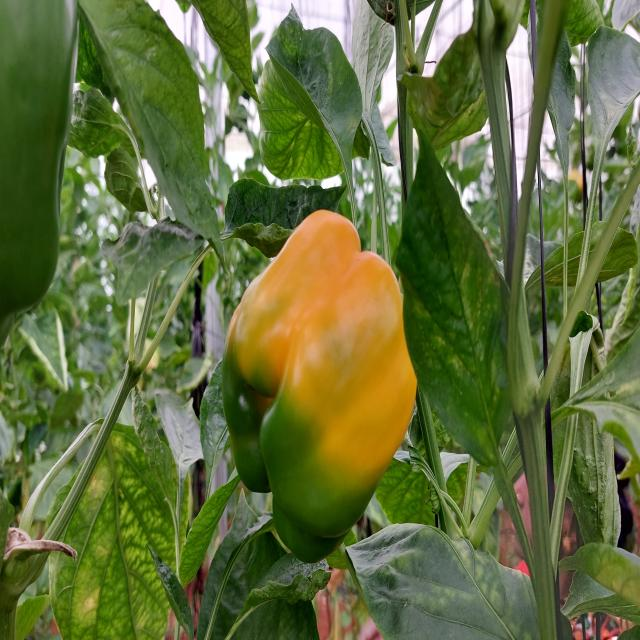GreenishYellow--Can-be-Harvested: (192, 187, 436, 585)
